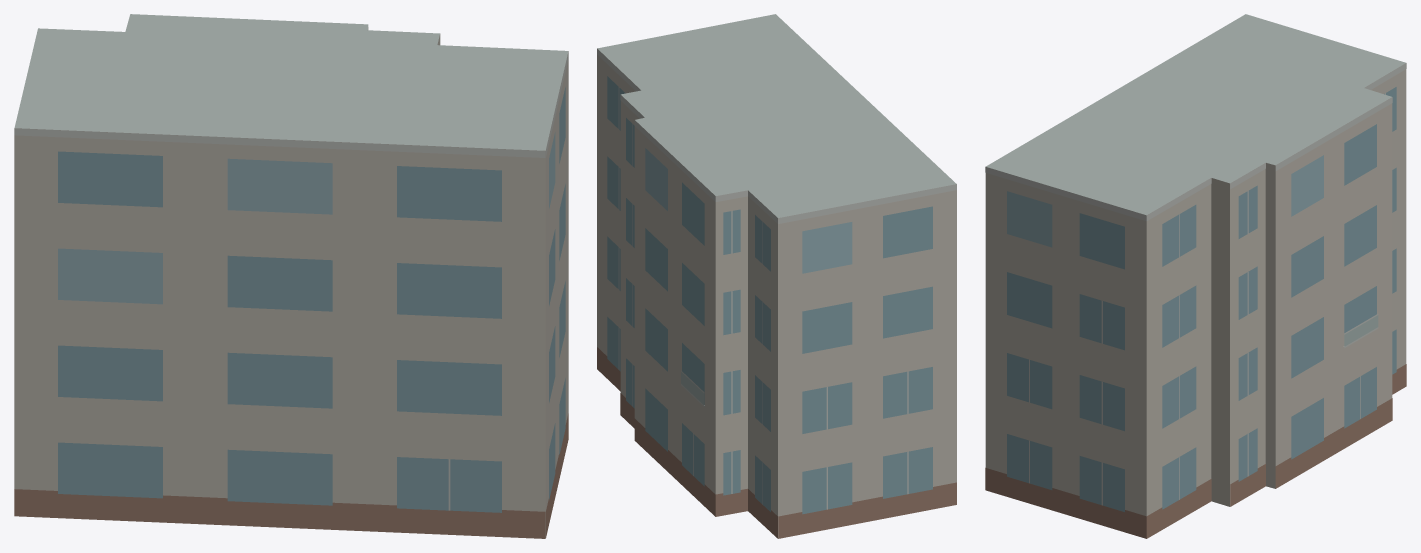
File: survey-upis-32836407.glb
The picture shows the model from 3 angles, left to right: view 1: azimuth 30°, elevation 25°; view 2: azimuth 150°, elevation 25°; view 3: azimuth 270°, elevation 25°; orthographic projection. The views are drawn at different scales.
Parts seen in each view (by area): view 1: survey-upis-32836407.tmp; view 2: survey-upis-32836407.tmp; view 3: survey-upis-32836407.tmp.
Part boxes in pixels (bbox=[...]): survey-upis-32836407.tmp: bbox=[14, 14, 568, 538]; survey-upis-32836407.tmp: bbox=[597, 14, 956, 538]; survey-upis-32836407.tmp: bbox=[985, 14, 1406, 538].
Size of the model in its own units: 17.36 by 13.01 by 15.35.
